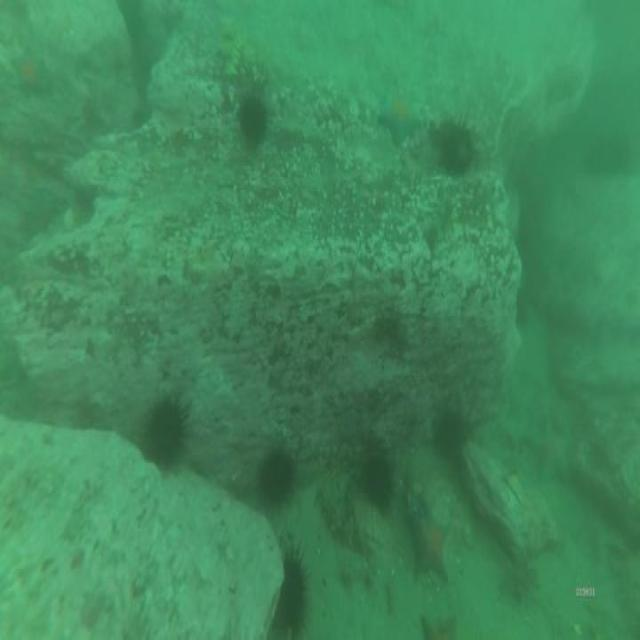echinus: (143, 396, 181, 462), (360, 450, 393, 512), (258, 449, 294, 502), (282, 556, 305, 631), (444, 124, 473, 176), (237, 93, 267, 142), (438, 409, 464, 458)
starfish: (377, 90, 422, 144), (412, 512, 449, 574), (13, 52, 44, 96)
